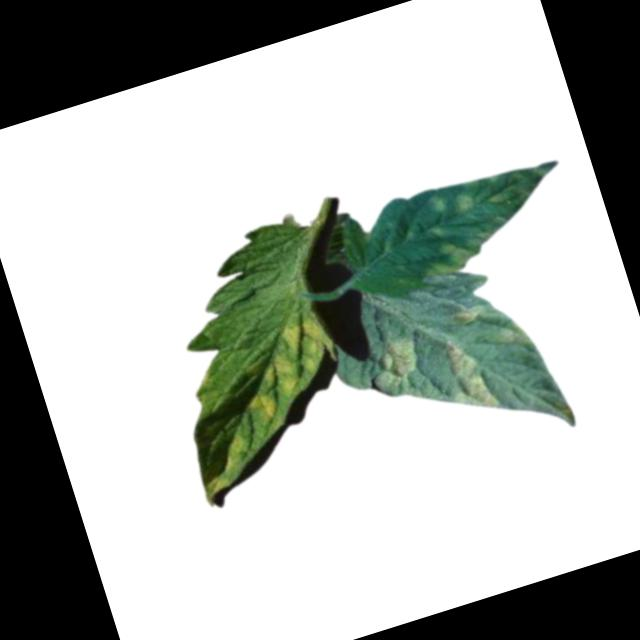Leaf_Mold: (228, 307, 352, 425), (432, 328, 503, 421), (362, 333, 427, 393), (423, 236, 478, 279), (215, 434, 251, 473), (447, 299, 488, 329), (423, 191, 452, 221), (451, 187, 478, 216)
